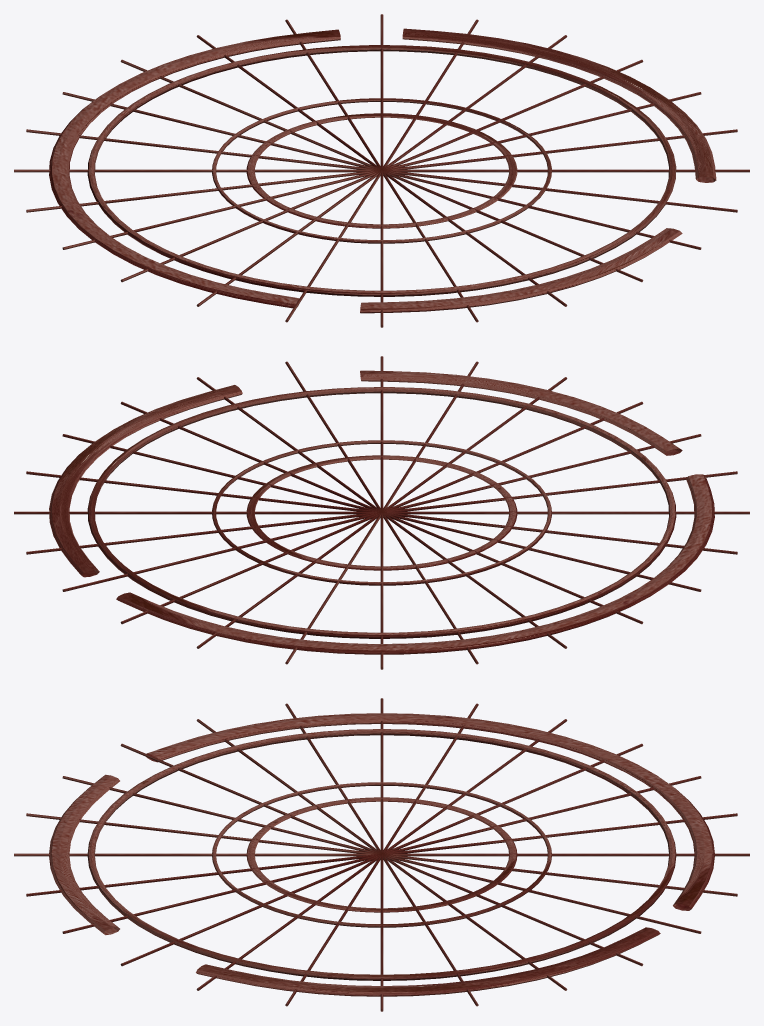
Rendered from scaffoldRound.fbx.
3 renders of one model, top to bottom at view 1: azimuth 30°, elevation 25°; view 2: azimuth 150°, elevation 25°; view 3: azimuth 270°, elevation 25°, orthographic.
Parts seen in each view (by area): view 1: Cylinder.153, Cylinder.152, Cylinder.155, Cylinder.151, Cylinder.154; view 2: Cylinder.153, Cylinder.152, Cylinder.155, Cylinder.151, Cylinder.154; view 3: Cylinder.153, Cylinder.152, Cylinder.155, Cylinder.151, Cylinder.154.
Boxes of the visible parts, left/top/right/bottom form: Cylinder.153: left=14, top=14, right=749, bottom=327; Cylinder.152: left=49, top=28, right=716, bottom=313; Cylinder.155: left=87, top=45, right=676, bottom=296; Cylinder.151: left=246, top=113, right=517, bottom=228; Cylinder.154: left=212, top=98, right=551, bottom=243; Cylinder.153: left=14, top=356, right=749, bottom=669; Cylinder.152: left=49, top=370, right=714, bottom=654; Cylinder.155: left=87, top=387, right=676, bottom=638; Cylinder.151: left=246, top=455, right=517, bottom=570; Cylinder.154: left=212, top=440, right=551, bottom=585; Cylinder.153: left=14, top=698, right=749, bottom=1011; Cylinder.152: left=49, top=713, right=714, bottom=996; Cylinder.155: left=87, top=729, right=676, bottom=980; Cylinder.151: left=246, top=797, right=517, bottom=912; Cylinder.154: left=212, top=782, right=551, bottom=927.
Bounding box in the file's own units: 2311 × 21.24 × 2311.
1 material, 1 textured.
